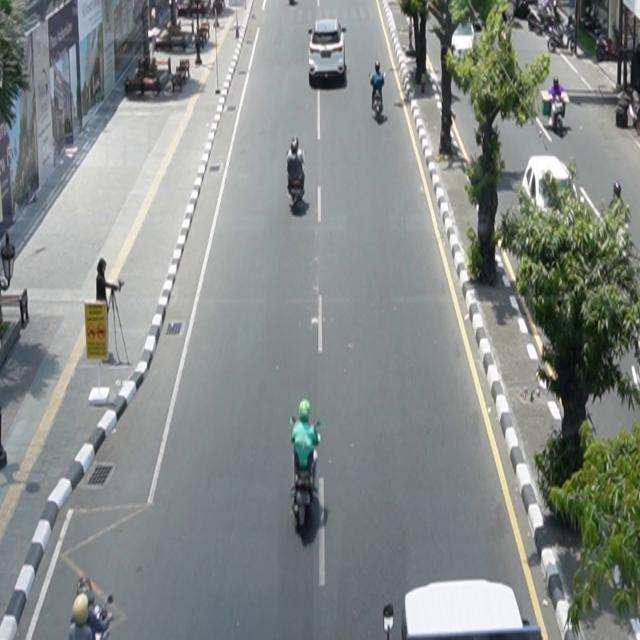car: (309, 18, 348, 82)
